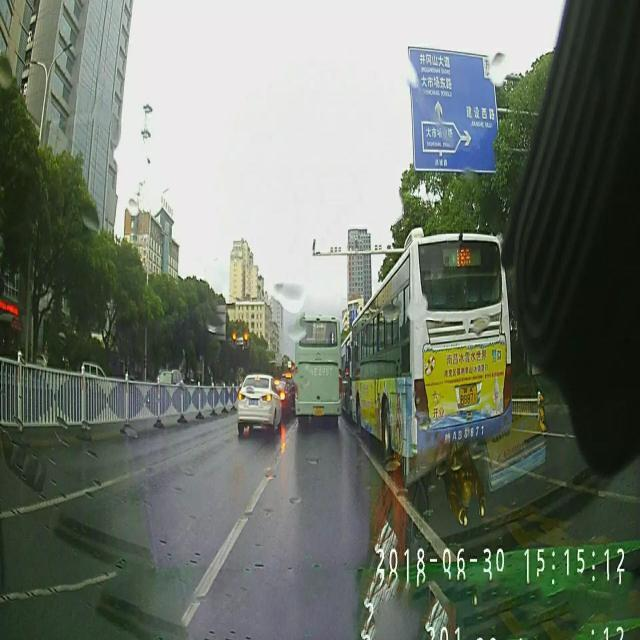car: (236, 374, 282, 434), (154, 368, 184, 403), (78, 364, 110, 396), (274, 378, 288, 418)
